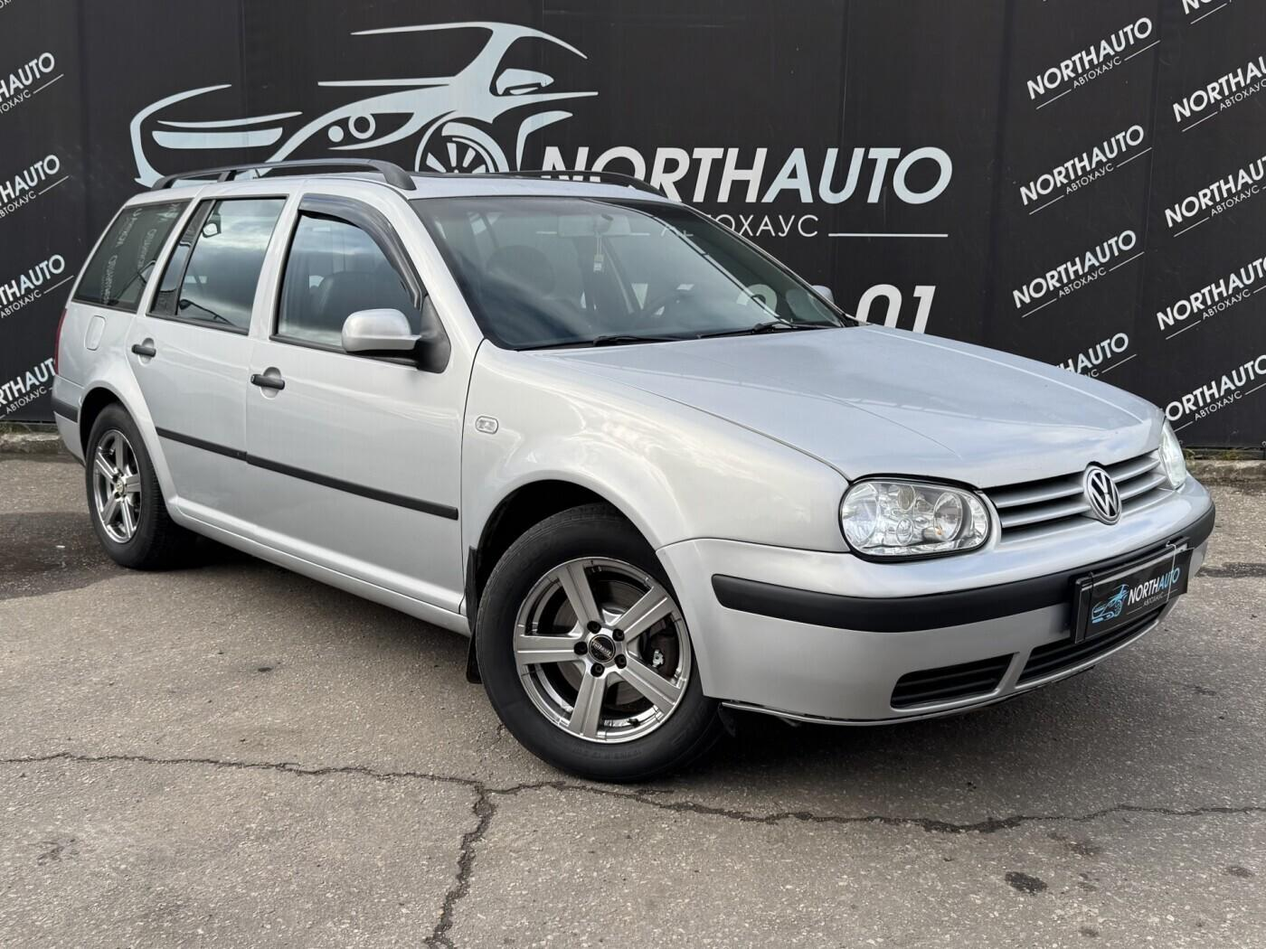Golf_1997-2006: (54, 167, 1213, 773)
